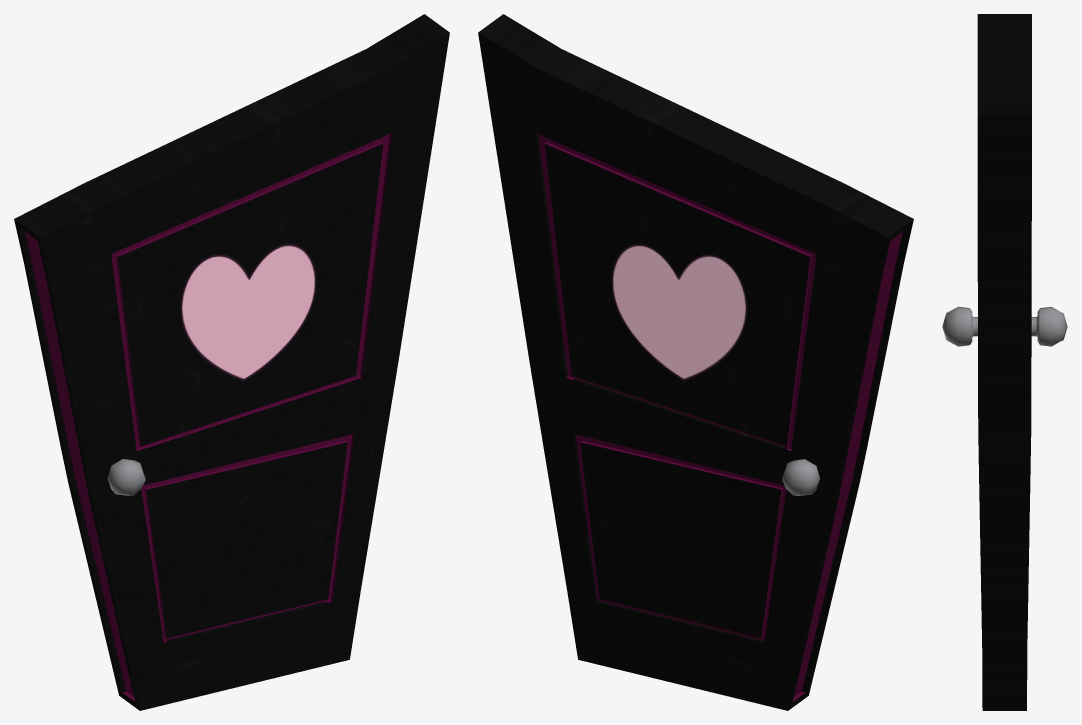
The model's file is door.glb.
3 renders of one model, left to right at view 1: azimuth 30°, elevation 25°; view 2: azimuth 150°, elevation 25°; view 3: azimuth 270°, elevation 25°, orthographic. The views are drawn at different scales.
Parts seen in each view (by area): view 1: Object_2, Object_3, Object_4; view 2: Object_2, Object_3, Object_4; view 3: Object_2, Object_4.
Part boxes in pixels (bbox=[...]): Object_2: bbox=[14, 14, 449, 710]; Object_3: bbox=[25, 132, 392, 701]; Object_4: bbox=[107, 459, 145, 495]; Object_2: bbox=[478, 14, 913, 710]; Object_3: bbox=[538, 133, 902, 701]; Object_4: bbox=[782, 459, 819, 495]; Object_2: bbox=[977, 14, 1031, 710]; Object_4: bbox=[942, 306, 1067, 346].
Size of the model in its own units: 2.62 by 3.69 by 0.6488.
Materials: 3 (2 with a texture image).
